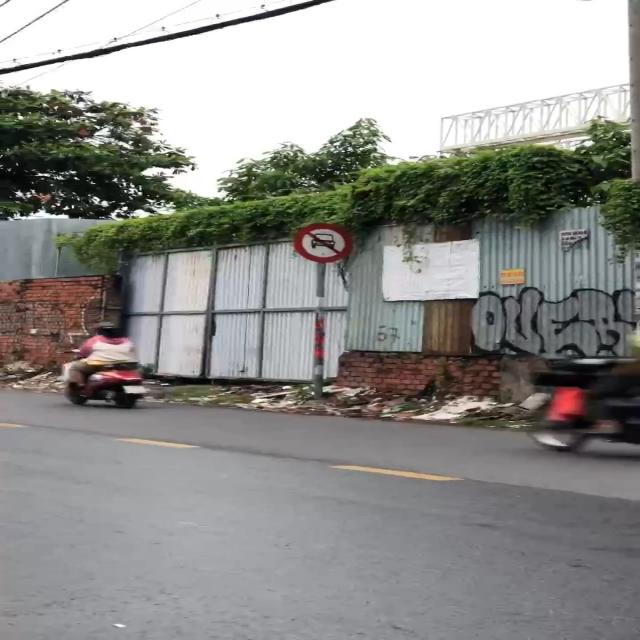Bien bao cam xe oto: (288, 221, 355, 264)
